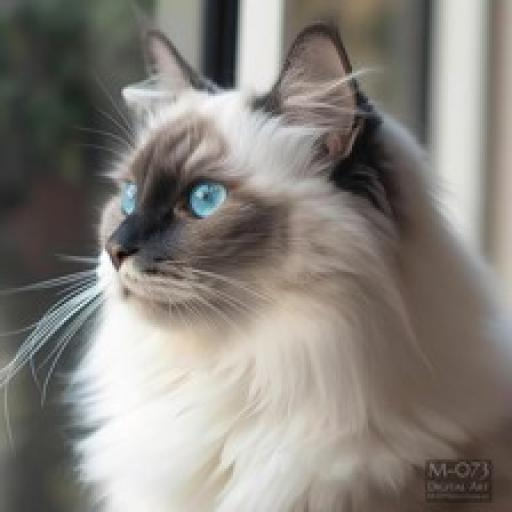cat: (36, 25, 510, 512)
